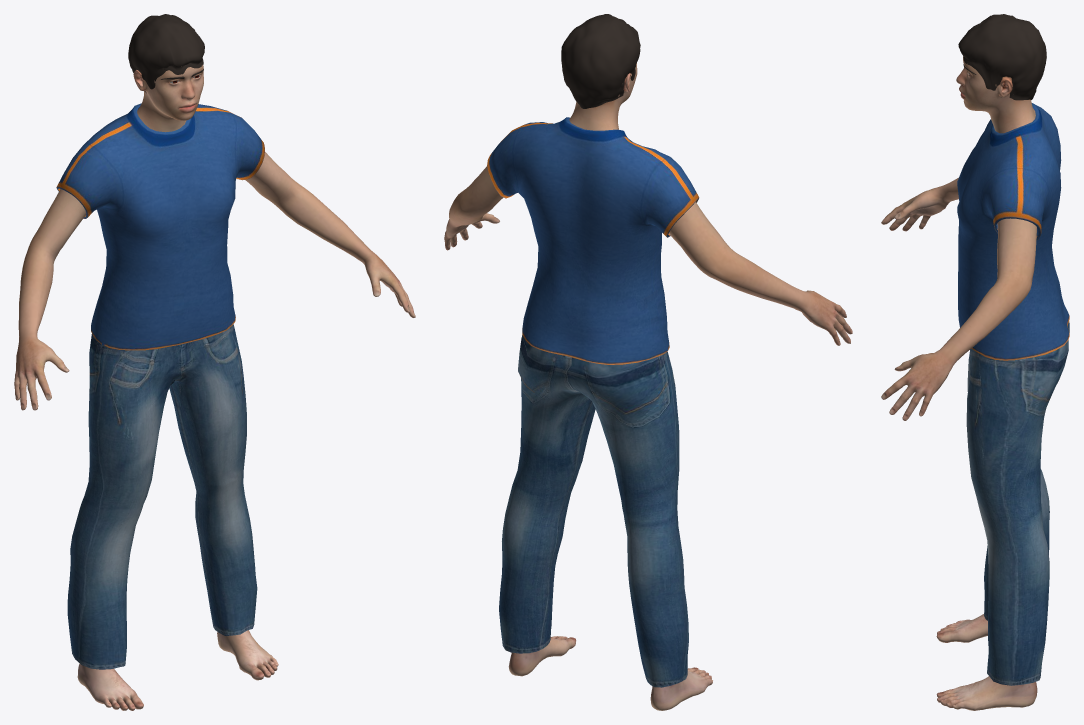
The model's file is homunculus.glb.
3 renders of one model, left to right at view 1: azimuth 30°, elevation 25°; view 2: azimuth 150°, elevation 25°; view 3: azimuth 270°, elevation 25°, orthographic. The views are drawn at different scales.
Parts seen in each view (by area): view 1: Human.male_casualsuit04, Human, Human.short02; view 2: Human.male_casualsuit04, Human, Human.short02; view 3: Human.male_casualsuit04, Human, Human.short02.
Boxes of the visible parts, left/top/right/bottom form: Human.male_casualsuit04: left=56, top=103, right=264, bottom=669; Human: left=14, top=64, right=415, bottom=710; Human.short02: left=128, top=14, right=204, bottom=93; Human.male_casualsuit04: left=487, top=117, right=699, bottom=687; Human: left=444, top=63, right=852, bottom=710; Human.short02: left=561, top=14, right=640, bottom=108; Human.male_casualsuit04: left=957, top=103, right=1069, bottom=685; Human: left=881, top=56, right=1037, bottom=710; Human.short02: left=958, top=14, right=1046, bottom=100.
Size of the model in its own units: 1.05 by 1.67 by 0.4386.
Materials: 10 (9 with a texture image).
